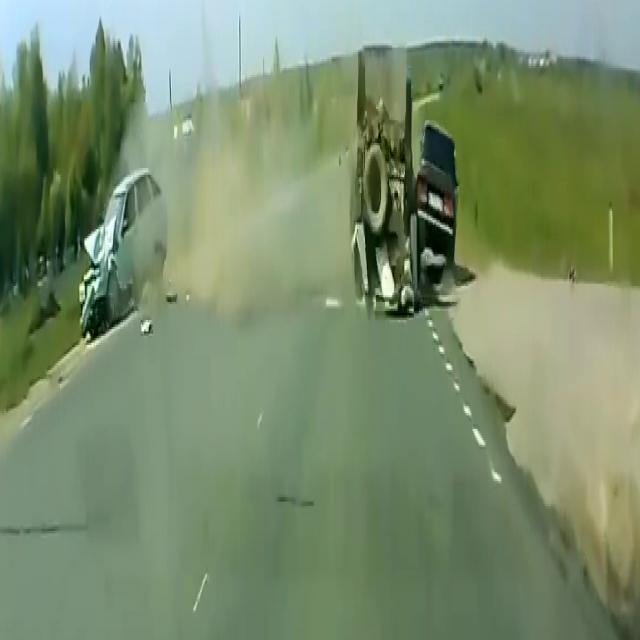accident: (338, 55, 424, 338), (76, 139, 178, 333)
